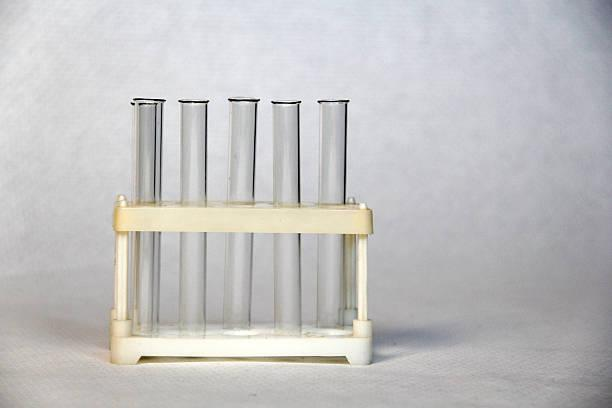Test tube: (268, 92, 305, 335), (221, 91, 257, 335), (175, 95, 209, 337), (314, 92, 347, 331), (127, 91, 159, 337)
